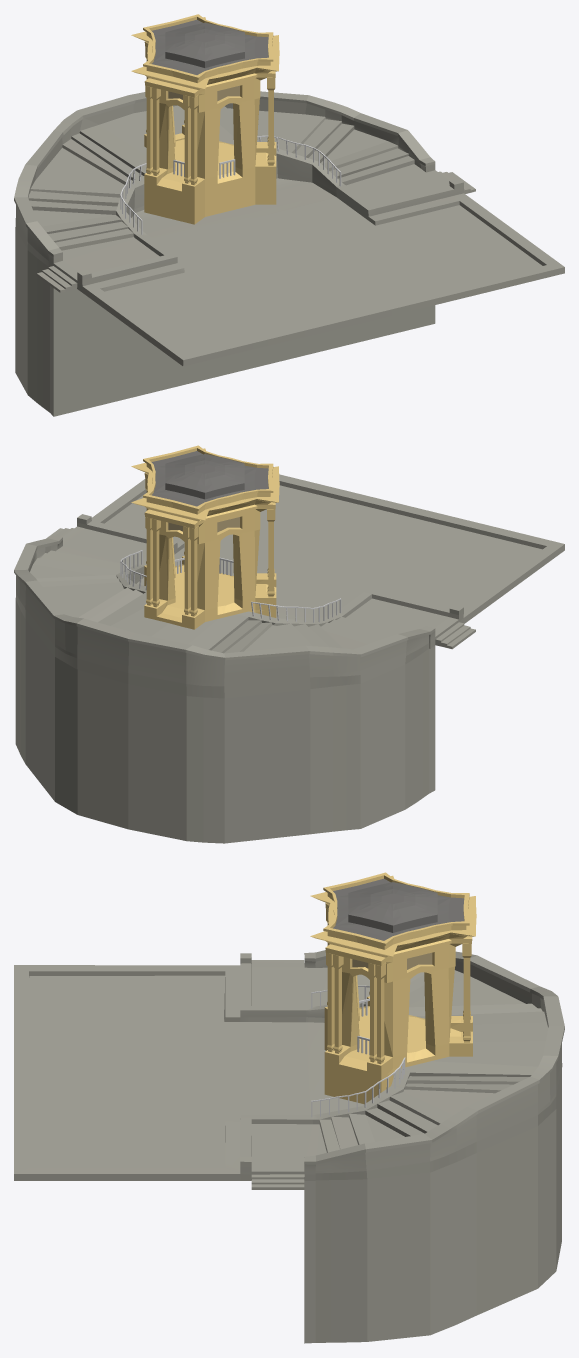
Rendered from Chateau_Eau.fbx.
3 views of the same model, one above another, from view 1: azimuth 30°, elevation 25°; view 2: azimuth 150°, elevation 25°; view 3: azimuth 270°, elevation 25° (orthographic). The views are drawn at different scales.
Parts seen in each view (by area): view 1: bassin_ect, chateau_eau; view 2: bassin_ect, chateau_eau, polySurface8; view 3: bassin_ect, chateau_eau, polySurface3.
Part boxes in pixels (left/top/right/bottom): bassin_ect: left=14, top=91, right=564, bottom=416; chateau_eau: left=131, top=14, right=279, bottom=224; bassin_ect: left=14, top=474, right=564, bottom=843; chateau_eau: left=131, top=445, right=279, bottom=629; polySurface8: left=251, top=598, right=341, bottom=622; bassin_ect: left=14, top=950, right=564, bottom=1343; chateau_eau: left=310, top=872, right=476, bottom=1104; polySurface3: left=311, top=1057, right=405, bottom=1117.
Bounding box in the file's own units: 757 × 533 × 775.
